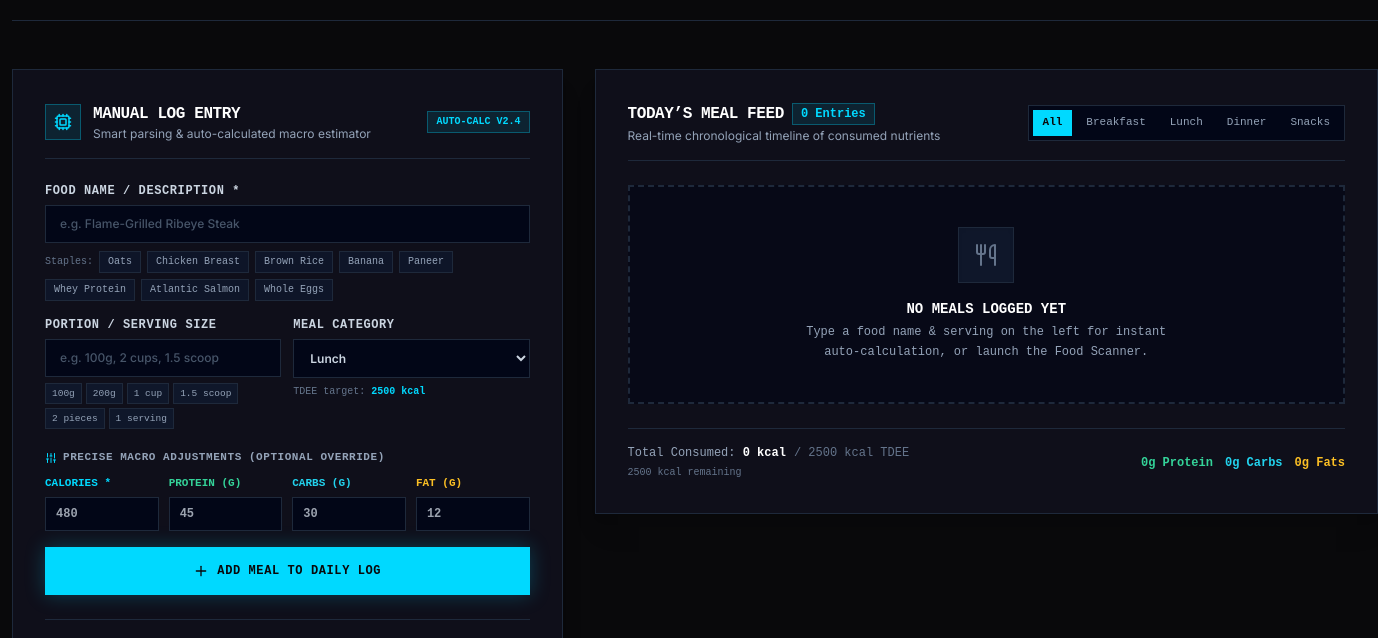
Scenario: MealLogger Component › allows manually adding a custom food item with macros and updates feed
Type "Egg White Omelet" into the field with placeholder "e.g. Flame-Grilled Ribeye Steak" at (287, 224), box [45,205,530,243]
(page scrolled)
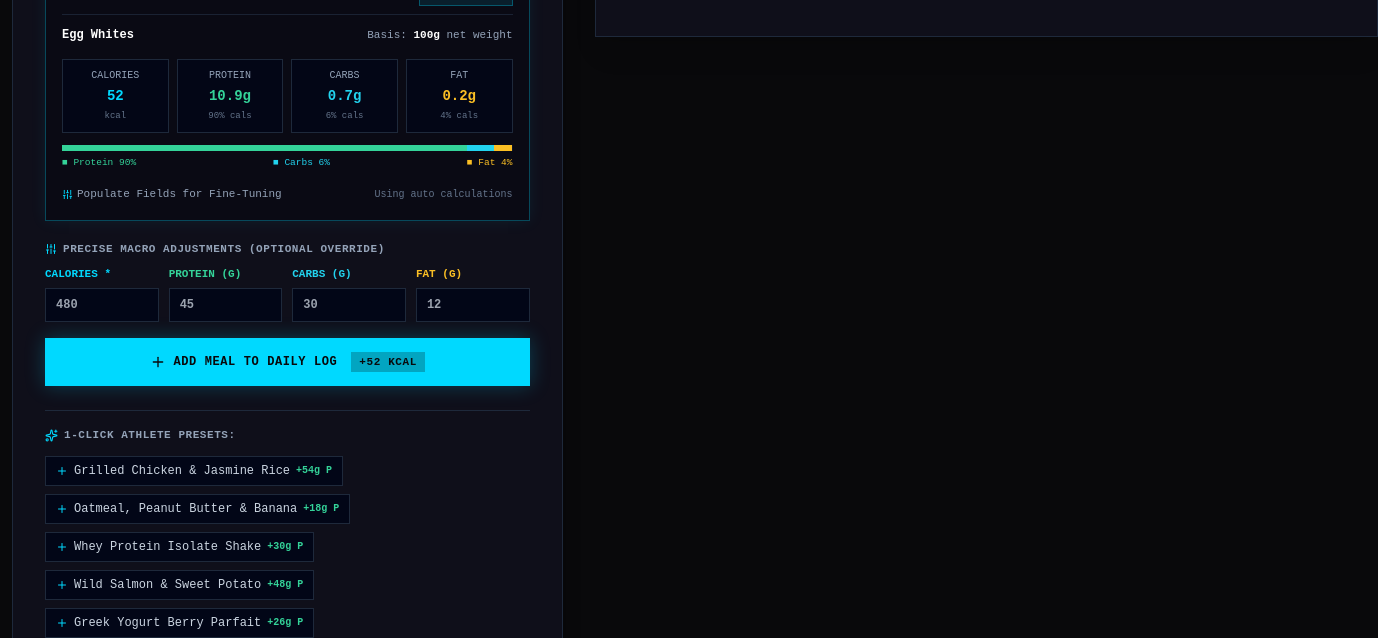
Type "250" into the number field with placeholder "480" at (102, 305), box [45,288,159,322]
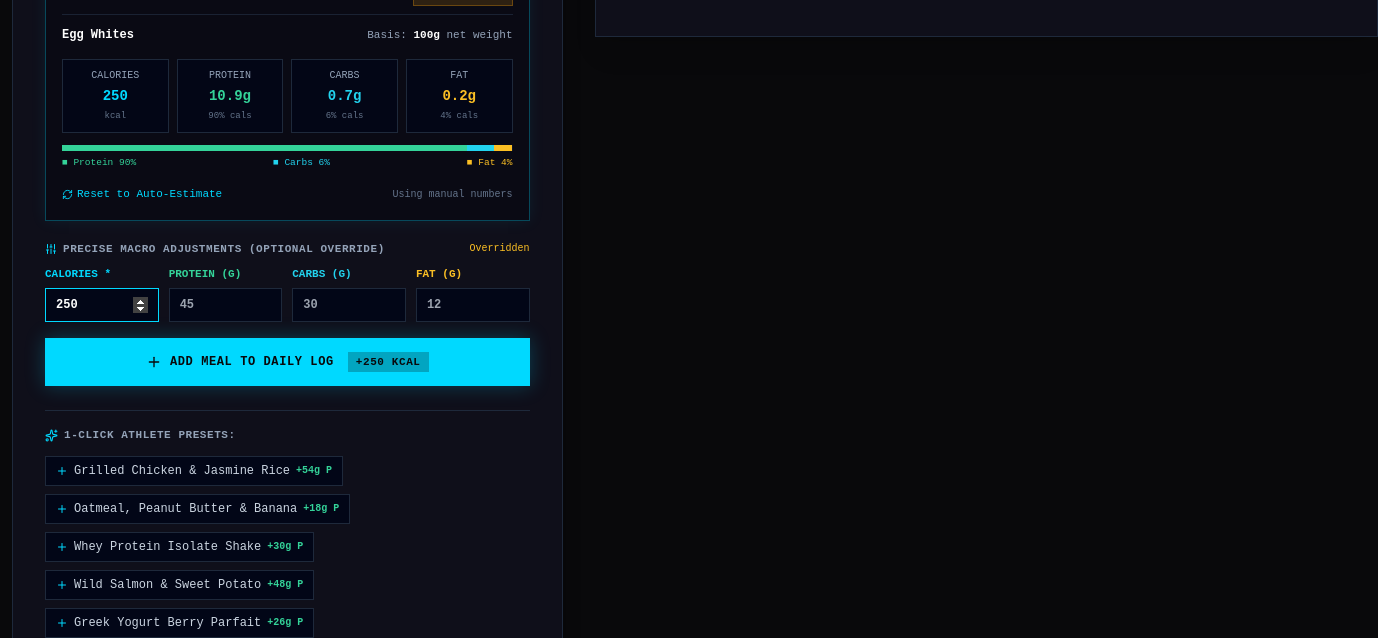
Type "35" into the number field with placeholder "45" at (225, 305), box [169,288,282,322]
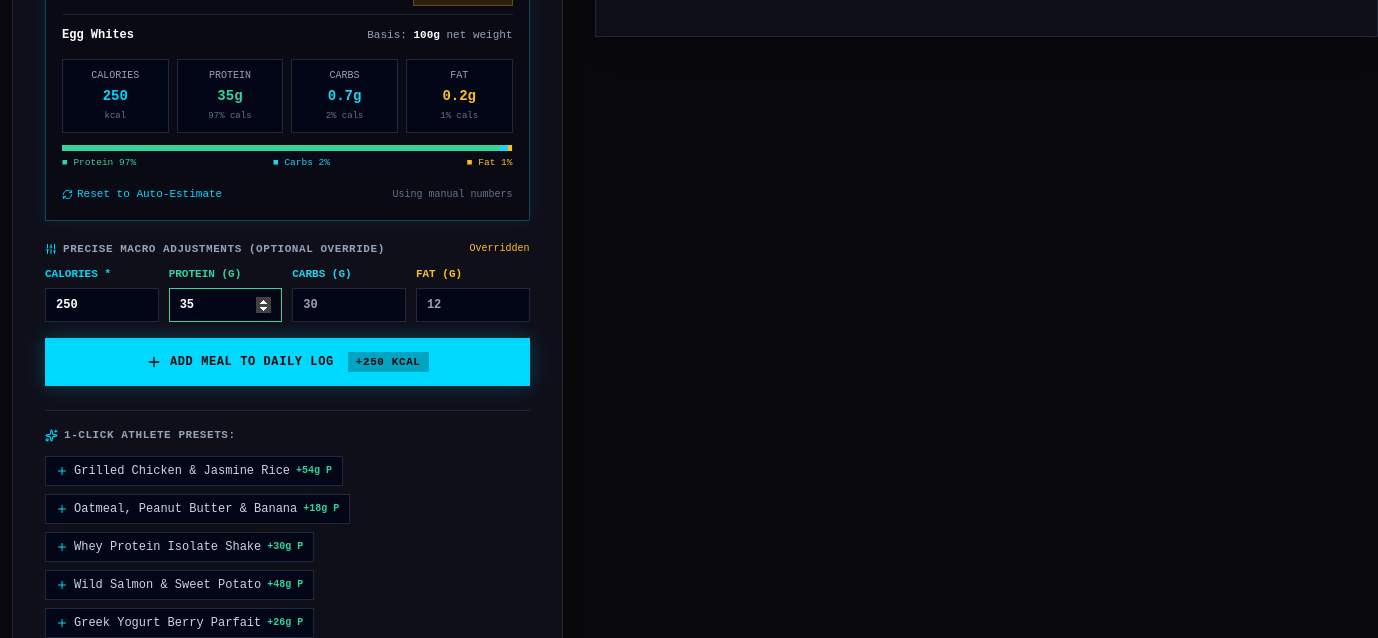
Type "4" into the number field with placeholder "30" at (349, 305), box [292,288,406,322]
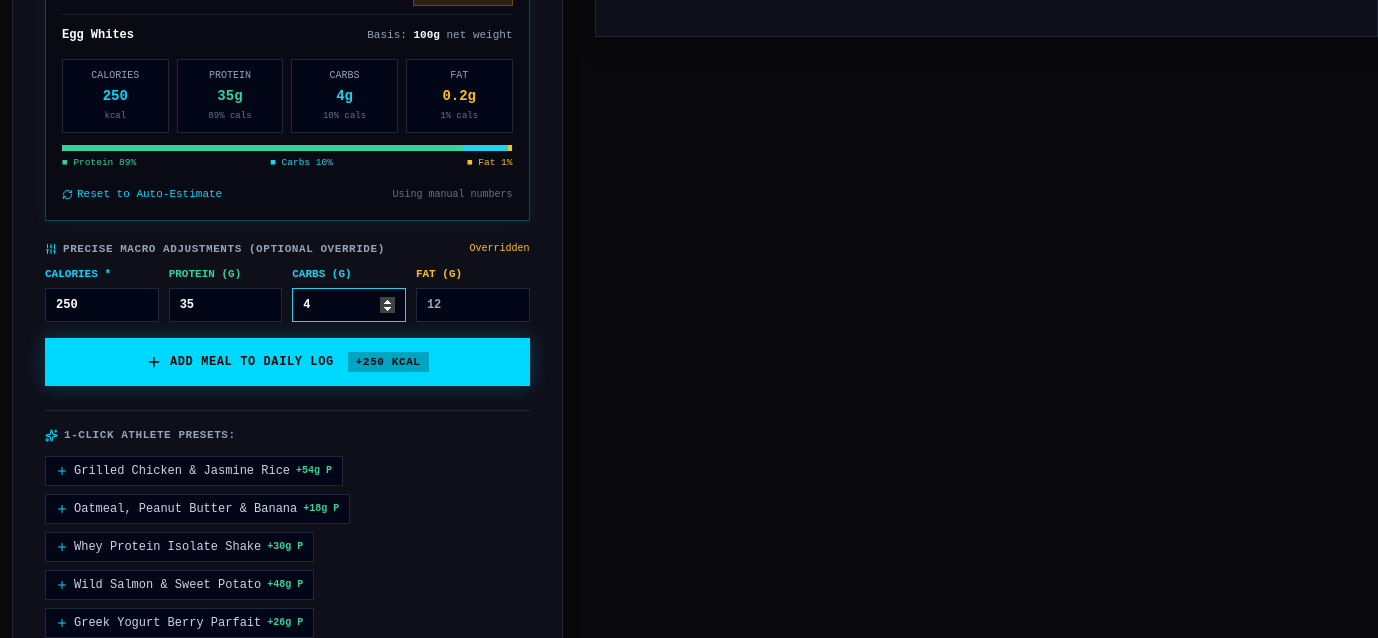
Type "6" into the number field with placeholder "12" at (473, 305), box [416,288,530,322]
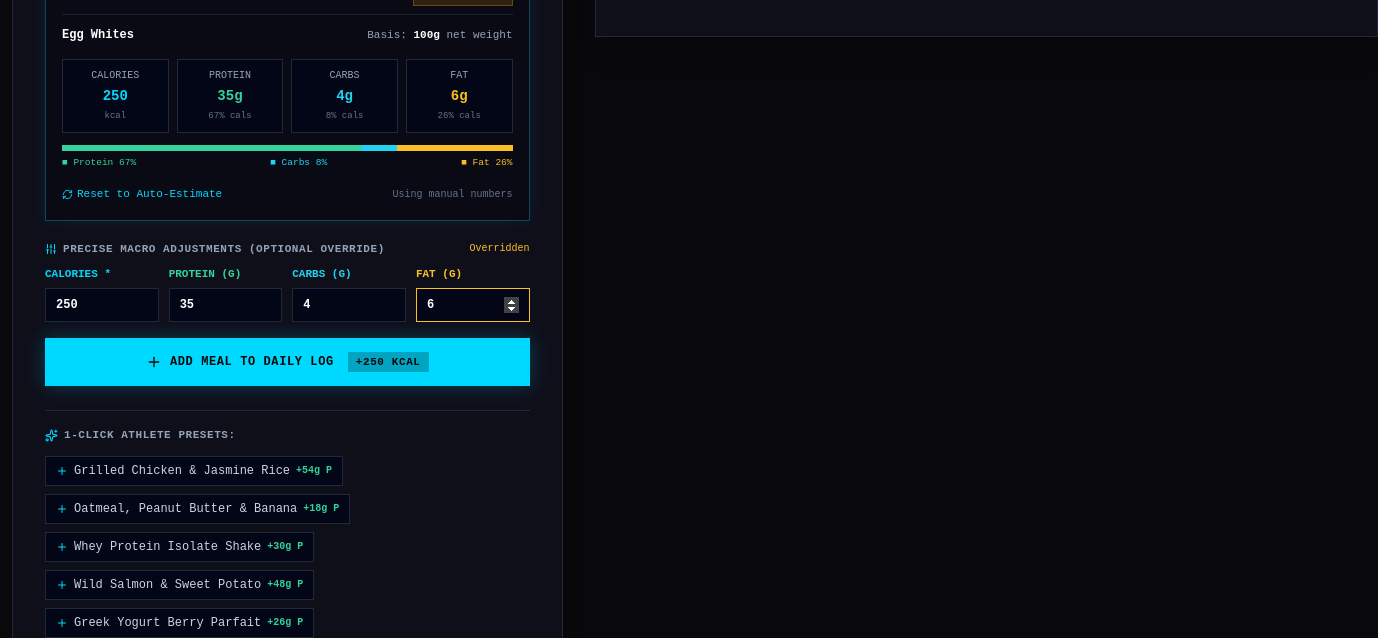
Click the text "Add Meal to Daily Log" at (252, 362), box [170,354,334,370]
(page scrolled)
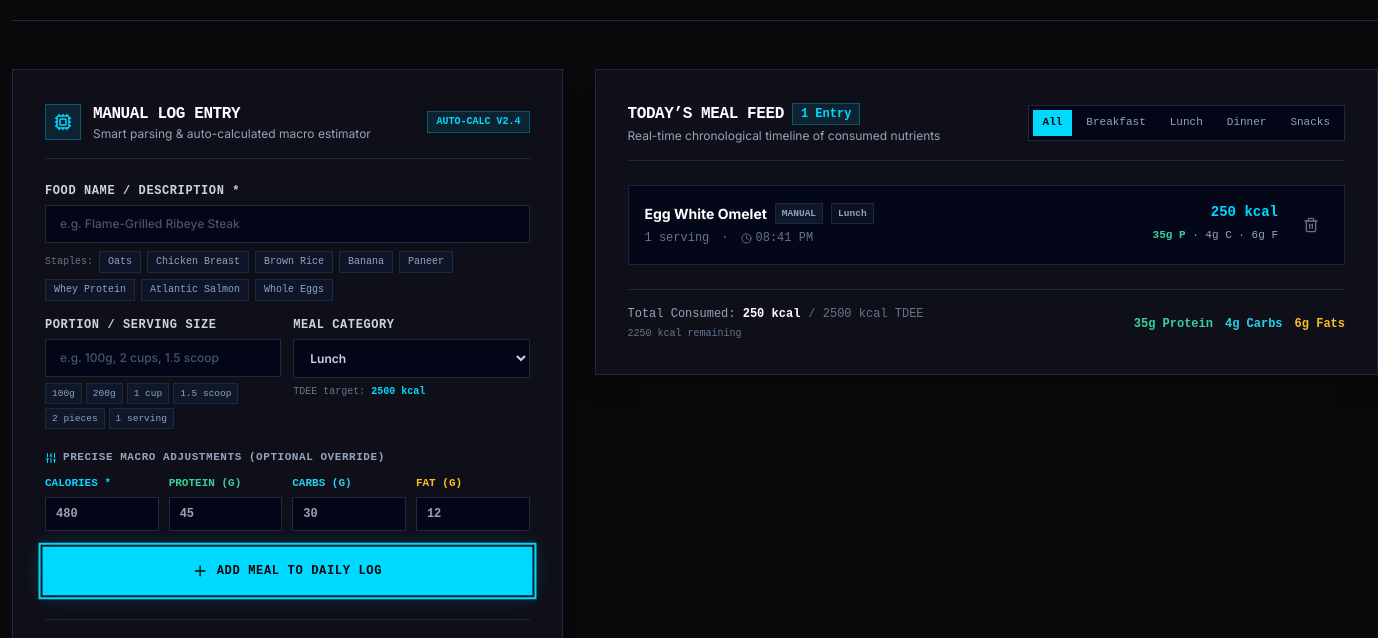
Check: the text "Egg White Omelet" is shown, box [644,204,767,224]
Check: the text "250 kcal" in the row of "Egg White Omelet" is shown, box [1211,204,1278,220]
Check: the text "35g P" is shown, box [1152,229,1186,241]
